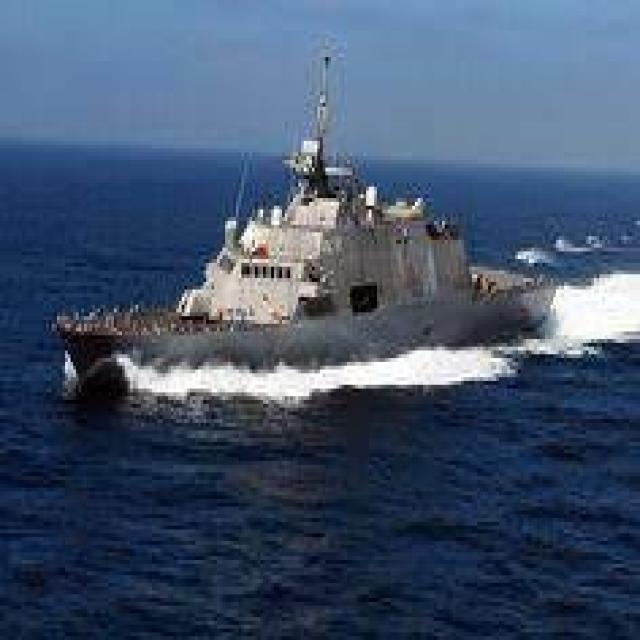navalvessels: (50, 70, 576, 406)
